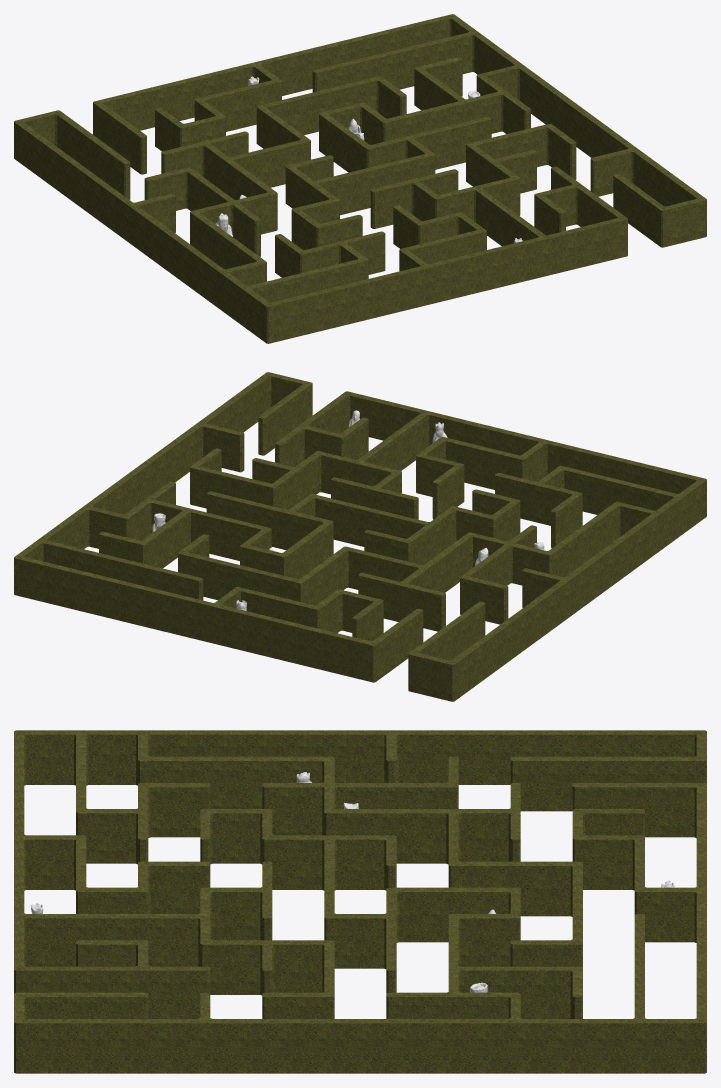
File: Laberinto.fbx
3 renders of one model, top to bottom at view 1: azimuth 30°, elevation 25°; view 2: azimuth 150°, elevation 25°; view 3: azimuth 270°, elevation 25°, orthographic. The views are drawn at different scales.
Visible parts, largest first — view 1: Maze; view 2: Maze; view 3: Maze.
Part boxes in pixels (left/top/right/bottom): Maze: left=14, top=14, right=706, bottom=343; Maze: left=14, top=372, right=706, bottom=701; Maze: left=14, top=730, right=706, bottom=1073.
Size of the model in its own units: 2566 by 210 by 2566.
